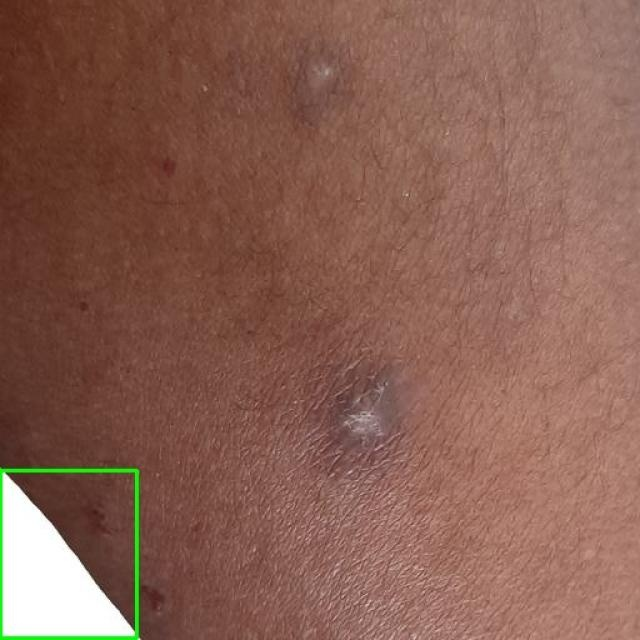Scabies: (0, 471, 138, 639)
